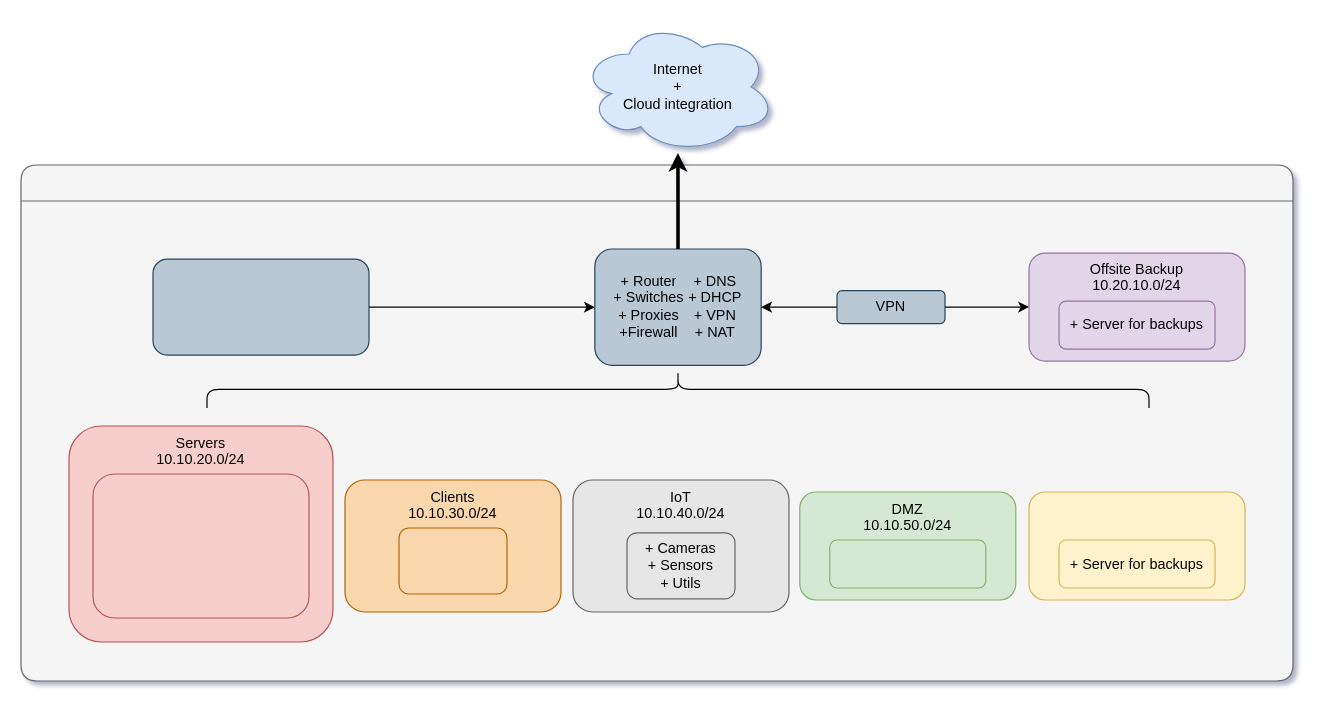
Some shapes in this 1321 by 709 pixel diagram are drawn without their labels. Here are the shapes that lost their labels. From the top down, the box of each, then its label:
(152, 258, 369, 355): Network Management 10.10.10.0/24
(20, 164, 1293, 681): Host / Virtualization Layer - VMware Workstation
(92, 473, 309, 618): + NAS + Private Web Server + Databases + Containers + LDAP + SSO + APPs
(398, 527, 507, 594): + Linux + Windows + Mac
(829, 539, 986, 588): + Public Web Server
(1028, 491, 1245, 600): Backup 10.10.60.0/24
